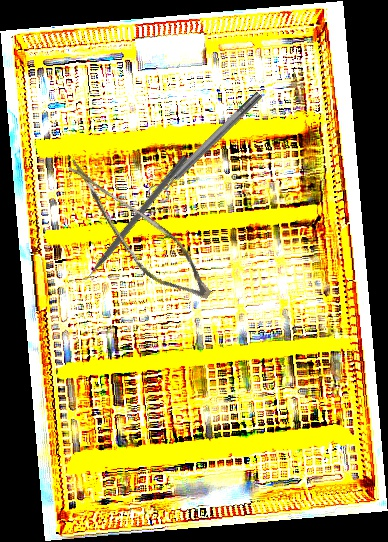Chopper: (70, 149, 189, 289)
Fixation Ring: (146, 86, 269, 206)
Micro Scissor: (38, 156, 232, 310)
